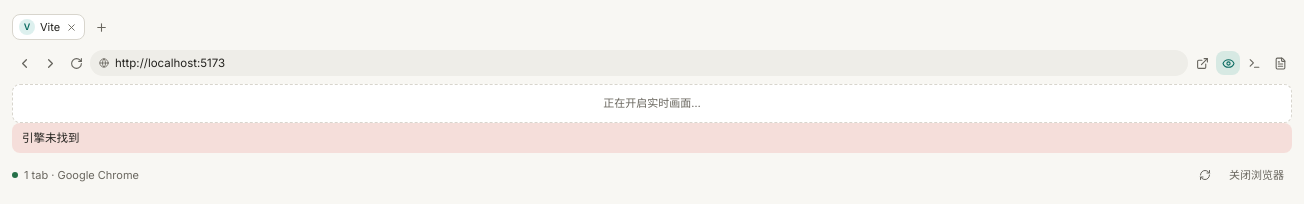
Test case: BrowserPanel › shows externally injected panel errors and clears them on successful refresh
Expected: the text "Vite" is shown, left=40, top=19, right=60, bottom=35
Expected: the message reads "引擎未找到", left=22, top=130, right=79, bottom=144
Note: 刷新成功（面板健康）即清除。
Click the button named "刷新浏览器状态" at (1205, 175), box left=1193, top=163, right=1217, bottom=187
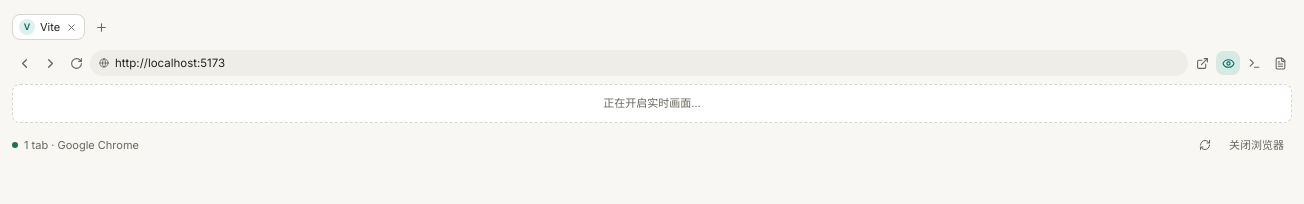
Result: the message "引擎未找到" is gone
